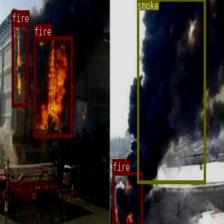fire: (34, 35, 72, 137), (111, 171, 142, 224), (11, 22, 28, 106)
smoke: (136, 0, 205, 183)
